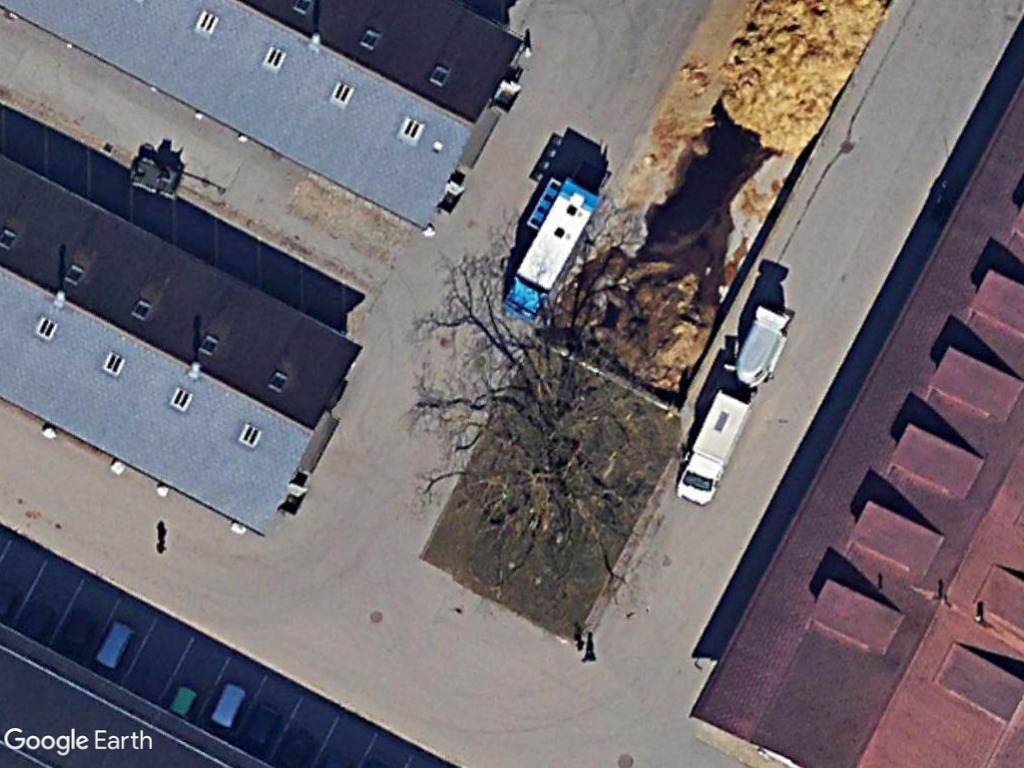truck: (498, 182, 600, 323), (674, 389, 758, 509)
